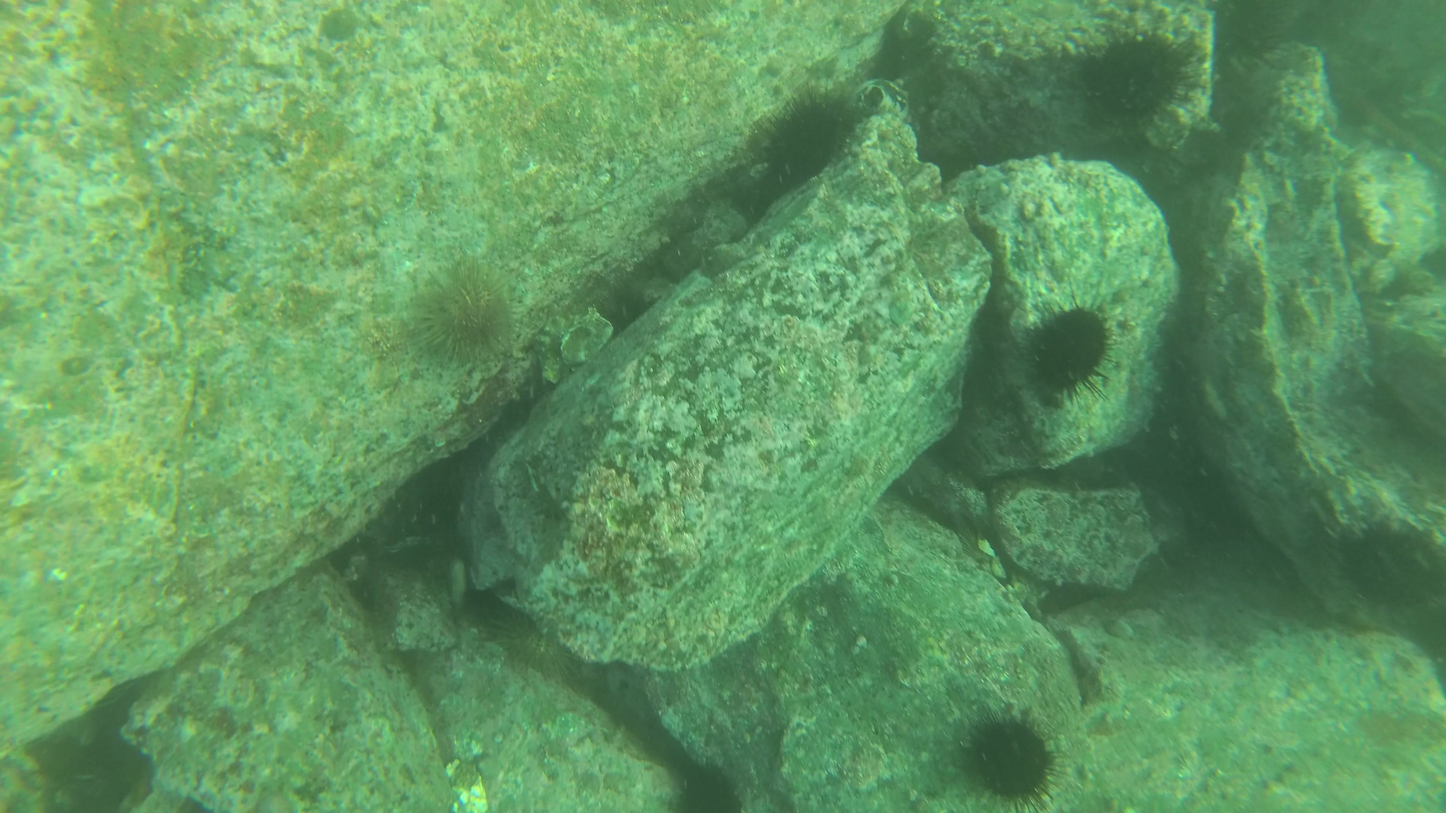starfish: (415, 261, 526, 369), (966, 714, 1058, 802), (764, 90, 855, 177), (1099, 34, 1185, 117), (1033, 301, 1108, 392)
